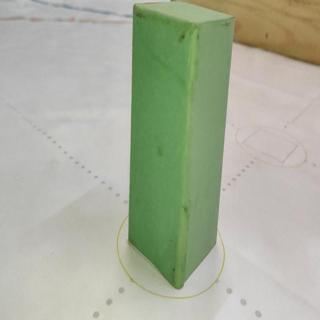greenbox: (131, 1, 222, 288)
